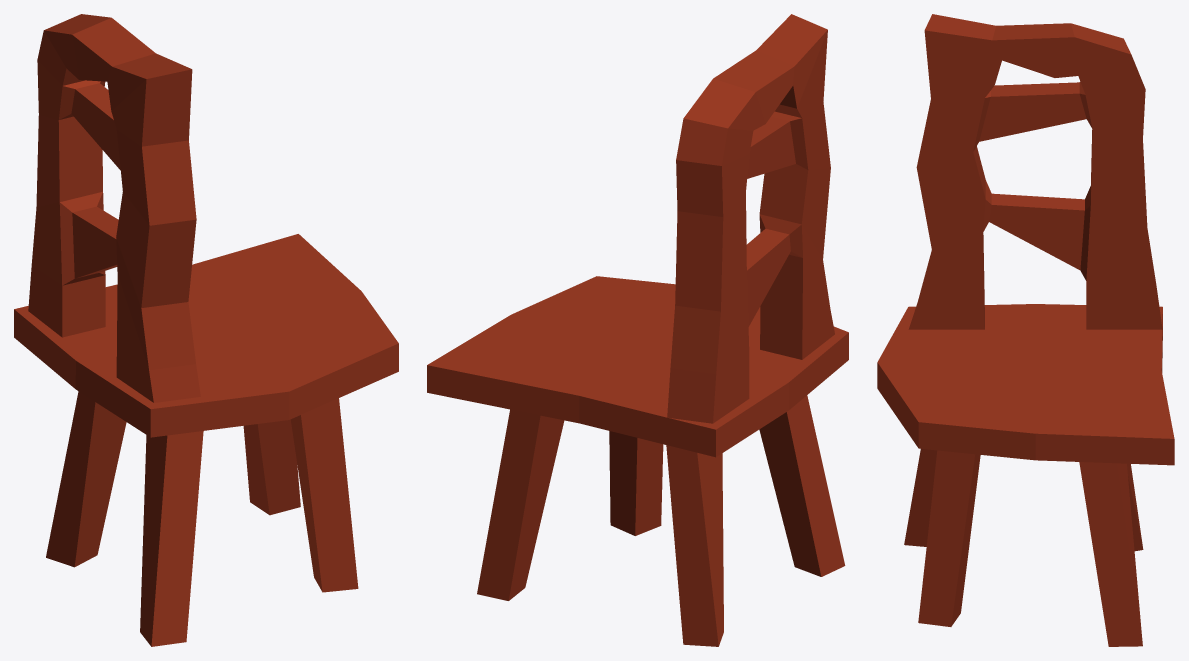
The model's file is Chaise_clean.fbx.
3 renders of one model, left to right at view 1: azimuth 30°, elevation 25°; view 2: azimuth 150°, elevation 25°; view 3: azimuth 270°, elevation 25°, orthographic. The views are drawn at different scales.
Parts seen in each view (by area): view 1: Chaise; view 2: Chaise; view 3: Chaise.
Part boxes in pixels (x1,y1,x2,y2): Chaise: (14,14,398,646); Chaise: (427,14,848,646); Chaise: (877,14,1174,646).
Bounding box in the file's own units: 132 × 238 × 123.
